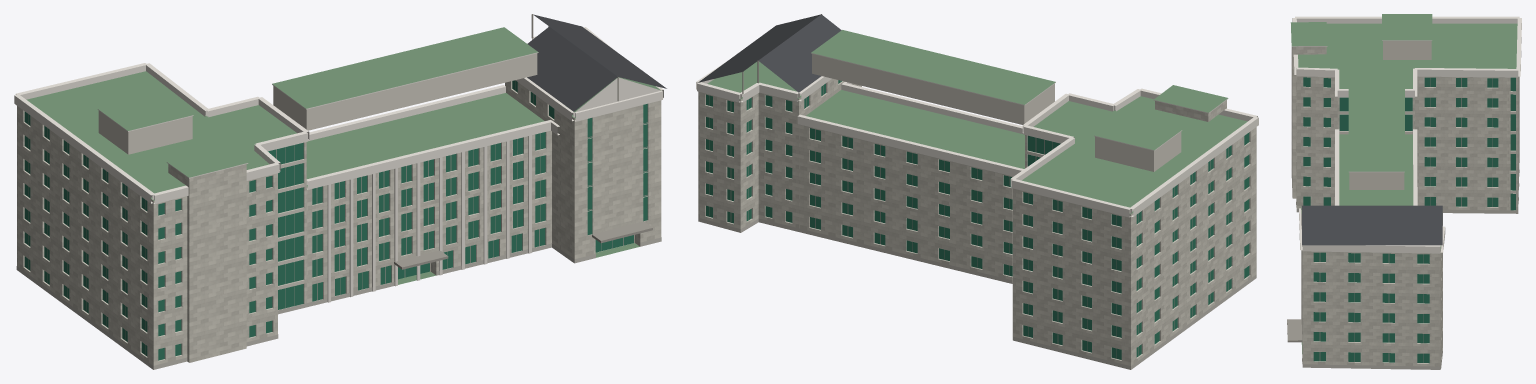
3 views of the same model, side by side, from view 1: azimuth 30°, elevation 25°; view 2: azimuth 150°, elevation 25°; view 3: azimuth 270°, elevation 25° (orthographic). The views are drawn at different scales.
Visible parts, largest first — view 1: economics__wall, economics__roof, economics__glass, economics__trim, economics__wall2, economics__roofAccent, economics__base, economics__frame, economics__canopy, economics__spandrel; view 2: economics__wall, economics__roof, economics__glass, economics__trim, economics__wall2, economics__roofAccent, economics__base, economics__frame; view 3: economics__wall, economics__roof, economics__glass, economics__roofAccent, economics__trim, economics__wall2, economics__base, economics__frame, economics__canopy, economics__spandrel.
Part boxes in pixels (x1=…): economics__wall: x1=17, y1=81, x2=661, y2=369; economics__roof: x1=26, y1=27, x2=660, y2=284; economics__glass: x1=24, y1=80, x2=647, y2=360; economics__trim: x1=14, y1=27, x2=663, y2=302; economics__wall2: x1=98, y1=53, x2=537, y2=154; economics__roofAccent: x1=527, y1=14, x2=666, y2=111; economics__base: x1=16, y1=237, x2=661, y2=369; economics__frame: x1=28, y1=14, x2=647, y2=354; economics__canopy: x1=394, y1=221, x2=652, y2=269; economics__spandrel: x1=278, y1=159, x2=304, y2=289; economics__wall: x1=698, y1=78, x2=1256, y2=369; economics__roof: x1=707, y1=30, x2=1247, y2=214; economics__glass: x1=706, y1=80, x2=1249, y2=359; economics__trim: x1=696, y1=53, x2=1258, y2=217; economics__wall2: x1=812, y1=54, x2=1181, y2=171; economics__roofAccent: x1=698, y1=14, x2=841, y2=92; economics__base: x1=698, y1=218, x2=1256, y2=369; economics__frame: x1=709, y1=14, x2=1228, y2=358; economics__wall: x1=1291, y1=46, x2=1519, y2=368; economics__roof: x1=1291, y1=14, x2=1517, y2=353; economics__glass: x1=1303, y1=77, x2=1515, y2=363; economics__roofAccent: x1=1302, y1=205, x2=1442, y2=245; economics__trim: x1=1291, y1=16, x2=1521, y2=253; economics__wall2: x1=1349, y1=41, x2=1431, y2=189; economics__base: x1=1296, y1=170, x2=1519, y2=369; economics__frame: x1=1301, y1=78, x2=1492, y2=362; economics__canopy: x1=1287, y1=319, x2=1302, y2=342; economics__spandrel: x1=1339, y1=91, x2=1515, y2=193.
Bounding box in the file's own units: 81.63 × 28.8 × 38.58.
Materials: 11 (1 with a texture image).
